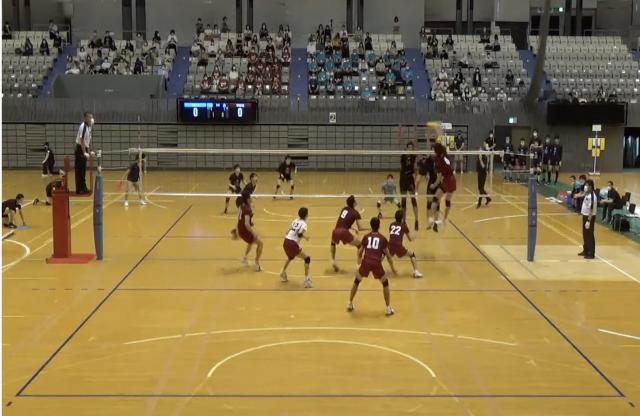spike: (421, 119, 457, 232)
